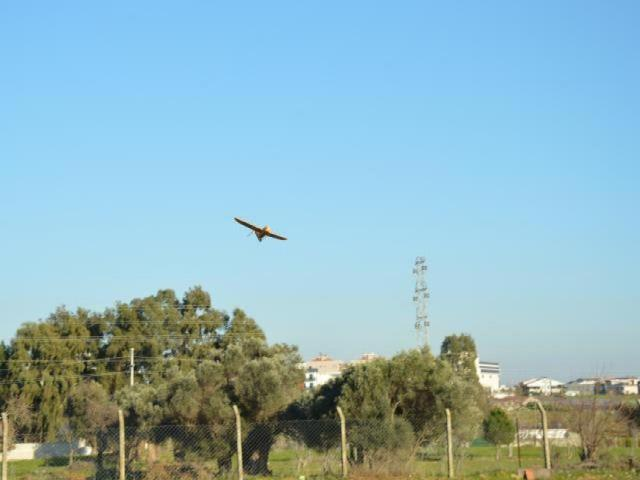iha: (234, 218, 287, 242)
